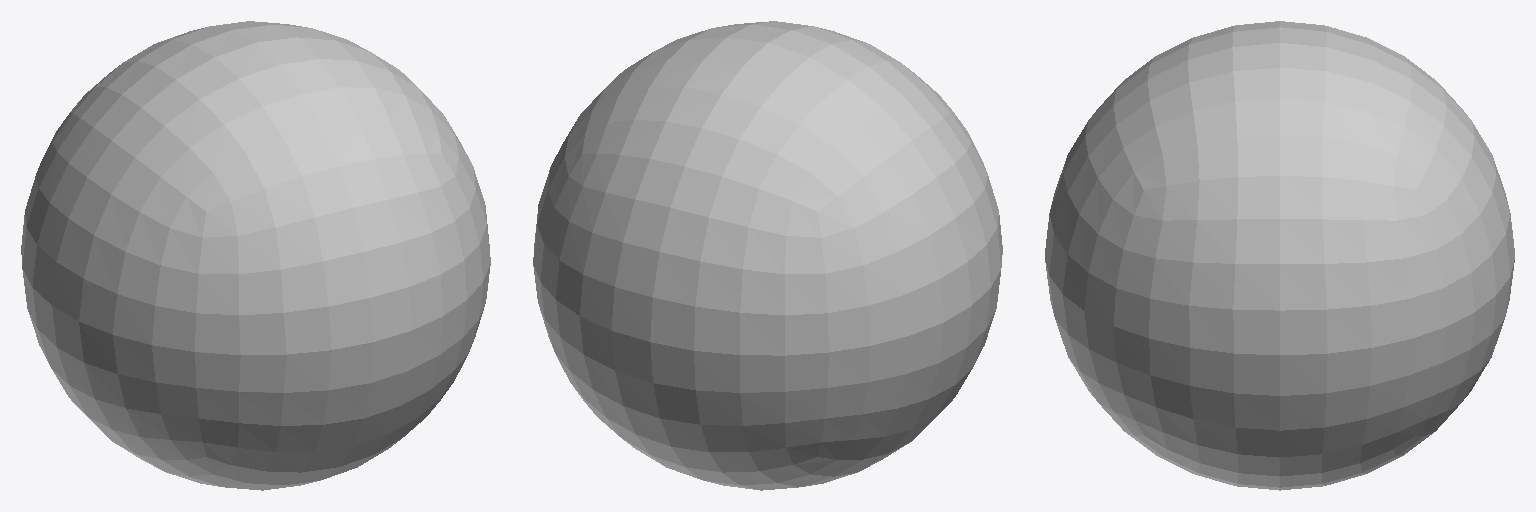
Rendered from Saturn.obj.
3 renders of one model, left to right at view 1: azimuth 30°, elevation 25°; view 2: azimuth 150°, elevation 25°; view 3: azimuth 270°, elevation 25°, orthographic.
Parts seen in each view (by area): view 1: Sphere; view 2: Sphere; view 3: Sphere.
Boxes of the visible parts, x1=… form: Sphere: x1=21, y1=21, x2=490, y2=490; Sphere: x1=533, y1=21, x2=1002, y2=490; Sphere: x1=1045, y1=21, x2=1514, y2=490.
Bounding box in the file's own units: 1.8 × 1.8 × 1.8.